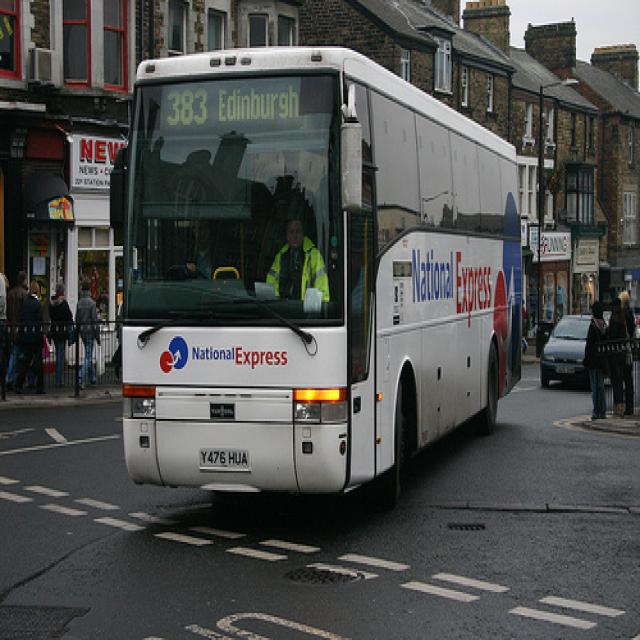light_vehicle: (540, 312, 593, 388)
